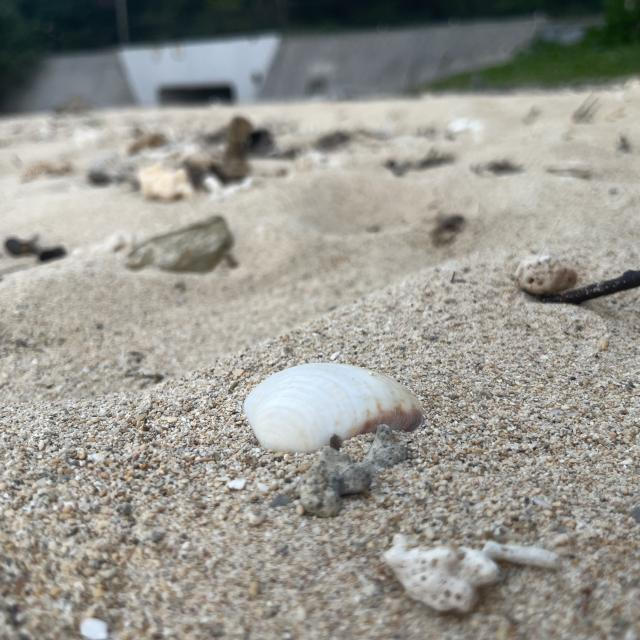shell: (240, 357, 433, 456)
